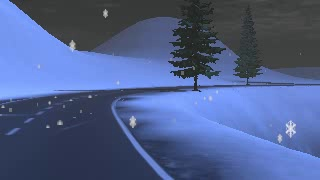Lane: (1, 83, 319, 178)
